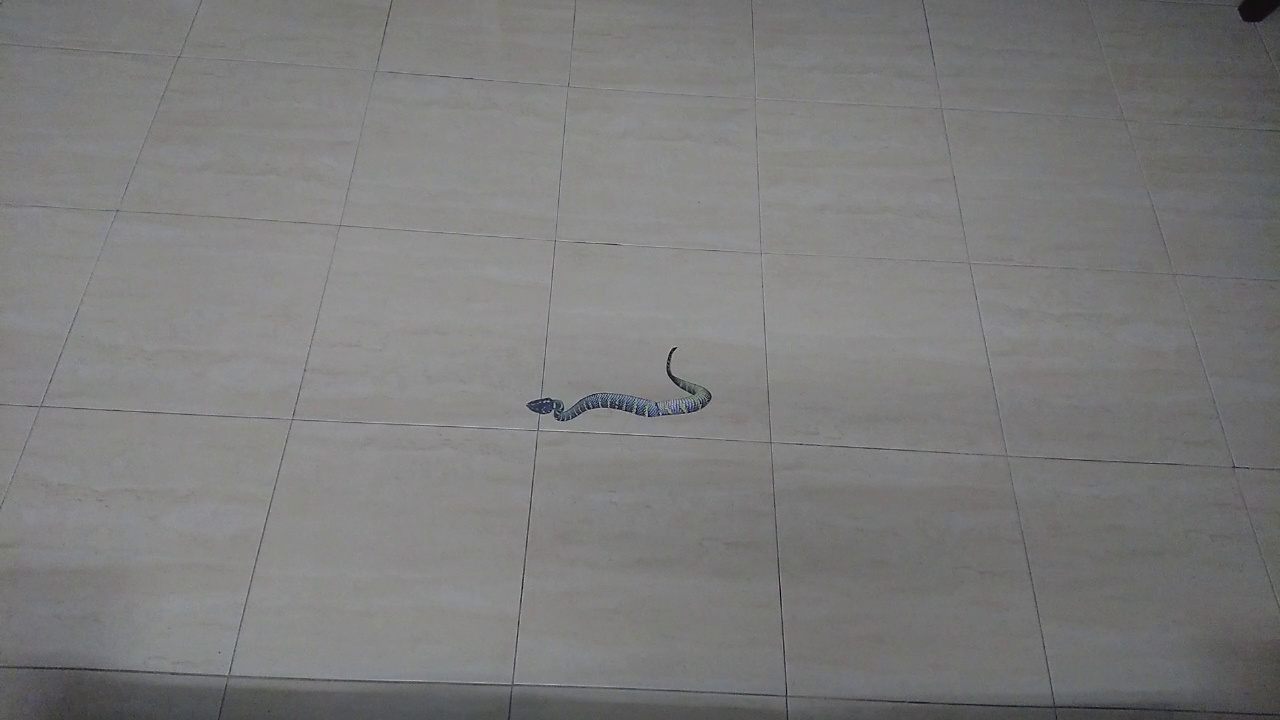snake: (508, 333, 724, 439)
